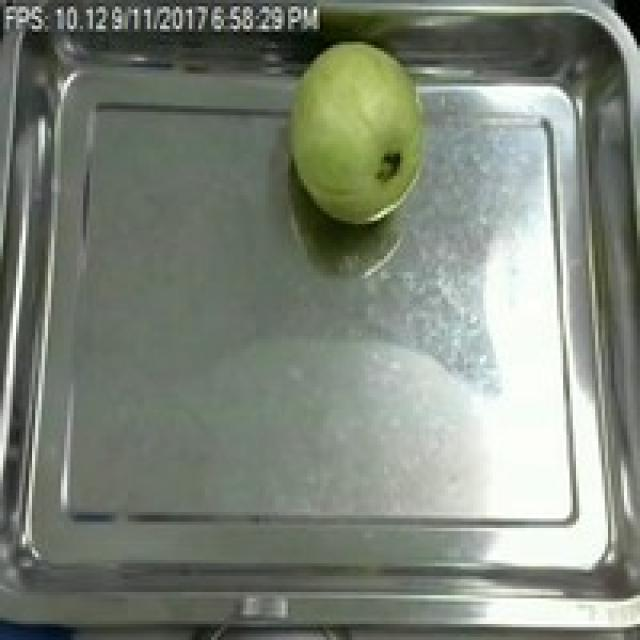Fruit: (275, 32, 442, 234)
